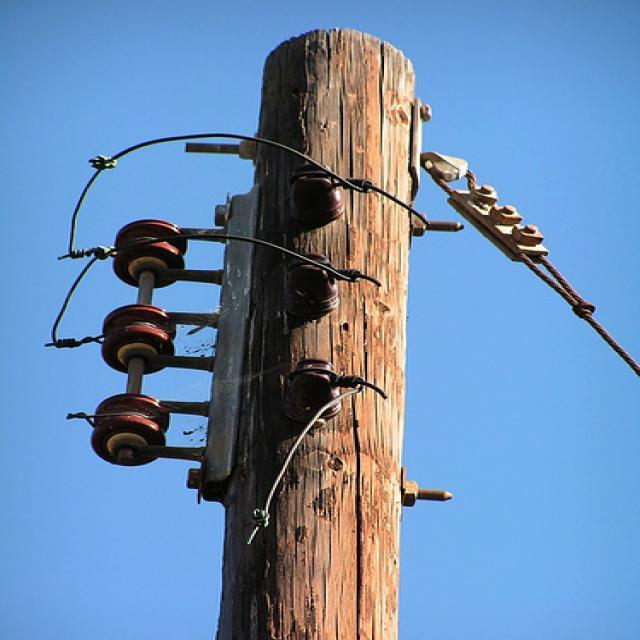pole: (200, 29, 432, 640)
transformer: (73, 222, 220, 471)
wire: (531, 264, 640, 385)
